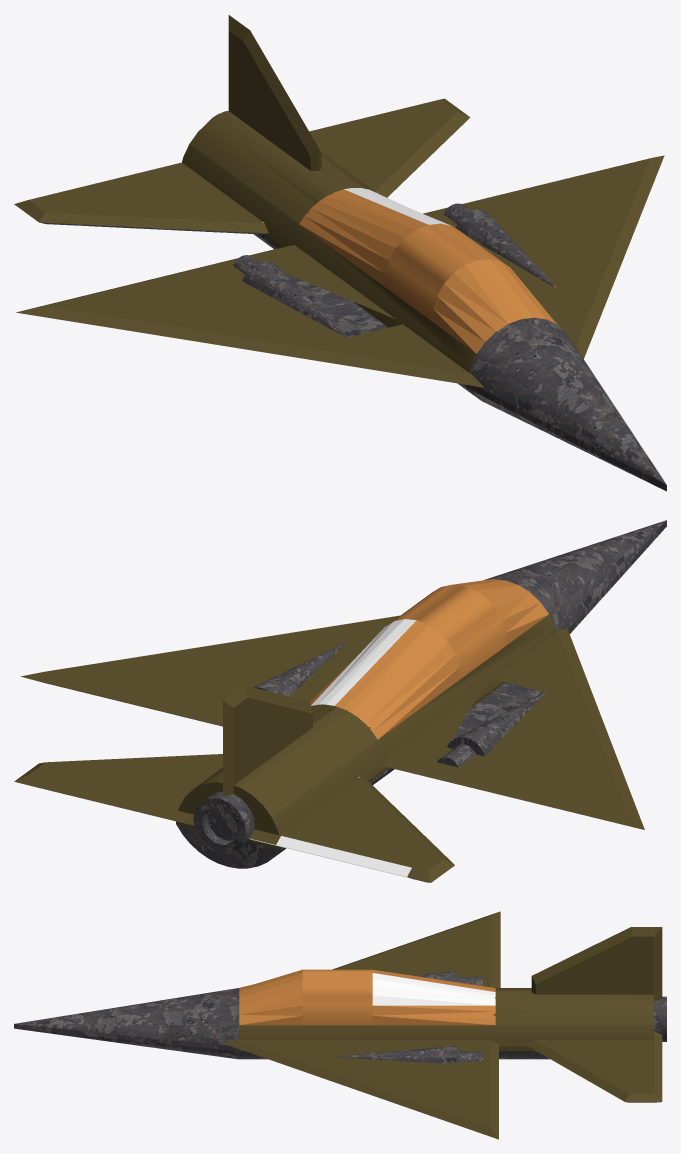
The model's file is jet.obj.
3 views of the same model, one above another, from view 1: azimuth 30°, elevation 25°; view 2: azimuth 150°, elevation 25°; view 3: azimuth 270°, elevation 25° (orthographic). The views are drawn at different scales.
Visible parts, largest first — view 1: Mesh1 Model; view 2: Mesh1 Model; view 3: Mesh1 Model.
Part boxes in pixels (bbox=[...]): Mesh1 Model: bbox=[14, 15, 666, 491]; Mesh1 Model: bbox=[14, 520, 666, 882]; Mesh1 Model: bbox=[14, 911, 666, 1139].
Bounding box in the file's own units: 329 × 85.72 × 398.
